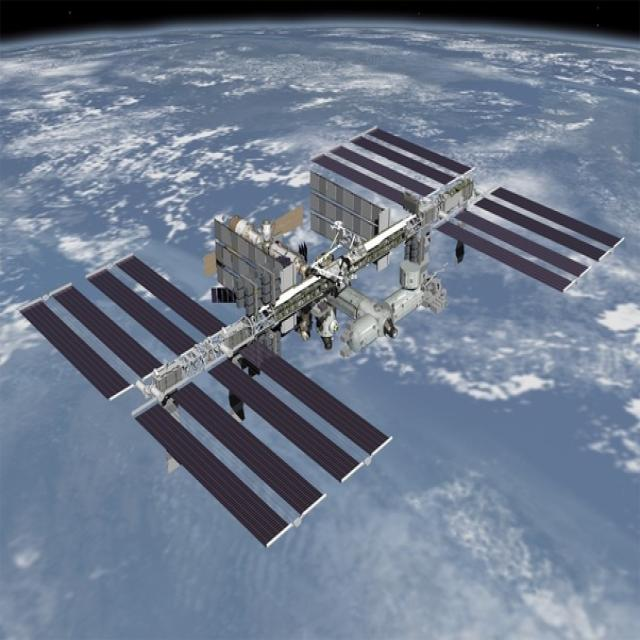medium_debris: (21, 128, 622, 546)
